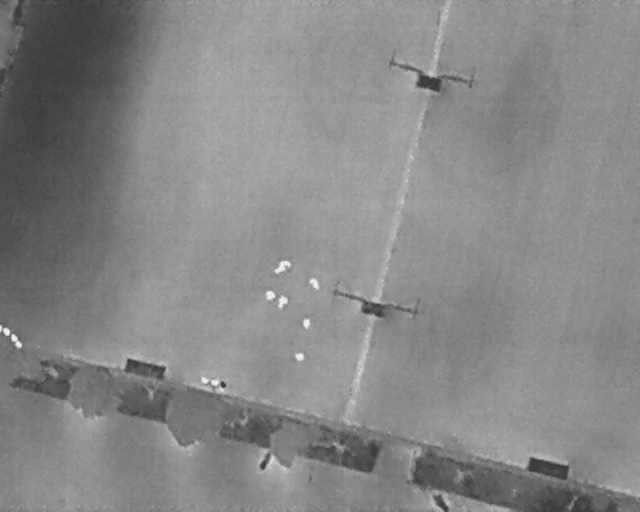Person: (274, 260, 291, 274), (307, 276, 321, 292), (277, 295, 288, 309), (265, 290, 276, 301), (302, 317, 311, 330), (295, 352, 304, 362)
